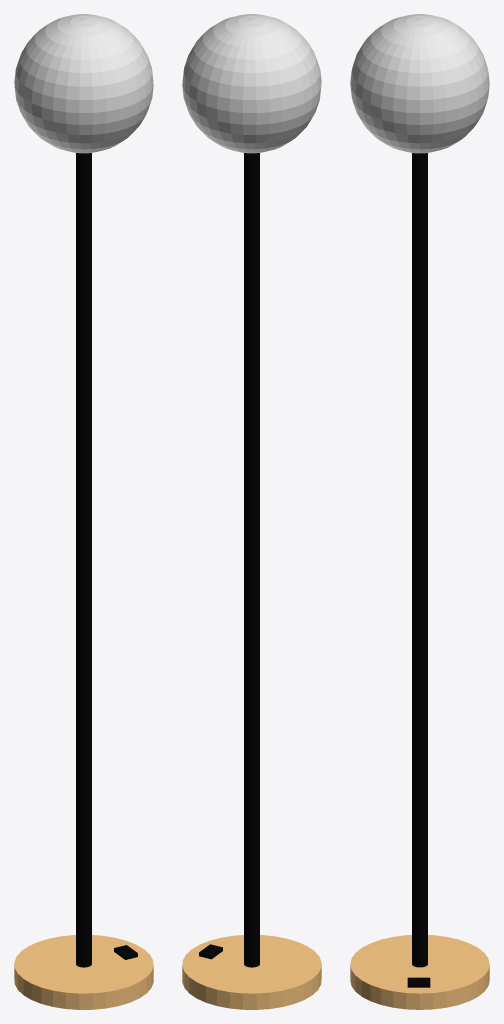
The model's file is Roseslight.fbx.
The picture shows the model from 3 angles, left to right: view 1: azimuth 30°, elevation 25°; view 2: azimuth 150°, elevation 25°; view 3: azimuth 270°, elevation 25°; orthographic projection.
Parts seen in each view (by area): view 1: 球体, 柱体, 柱体.001; view 2: 球体, 柱体, 柱体.001; view 3: 球体, 柱体, 柱体.001.
Boxes of the visible parts, bbox=[...] form: 球体: bbox=[14, 14, 153, 153]; 柱体: bbox=[76, 153, 91, 967]; 柱体.001: bbox=[14, 935, 153, 1009]; 球体: bbox=[182, 14, 321, 153]; 柱体: bbox=[244, 153, 259, 967]; 柱体.001: bbox=[182, 935, 321, 1009]; 球体: bbox=[350, 14, 489, 153]; 柱体: bbox=[412, 153, 427, 967]; 柱体.001: bbox=[350, 935, 489, 1009].
Bounding box in the file's own units: 200 × 1518 × 200.
